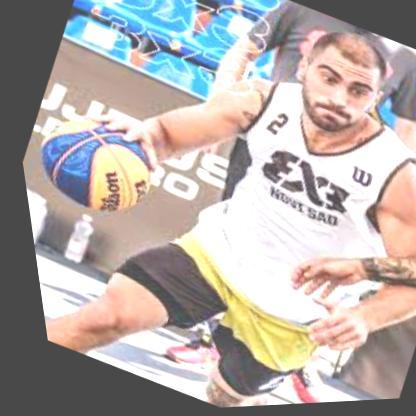basketball: (15, 102, 166, 231)
